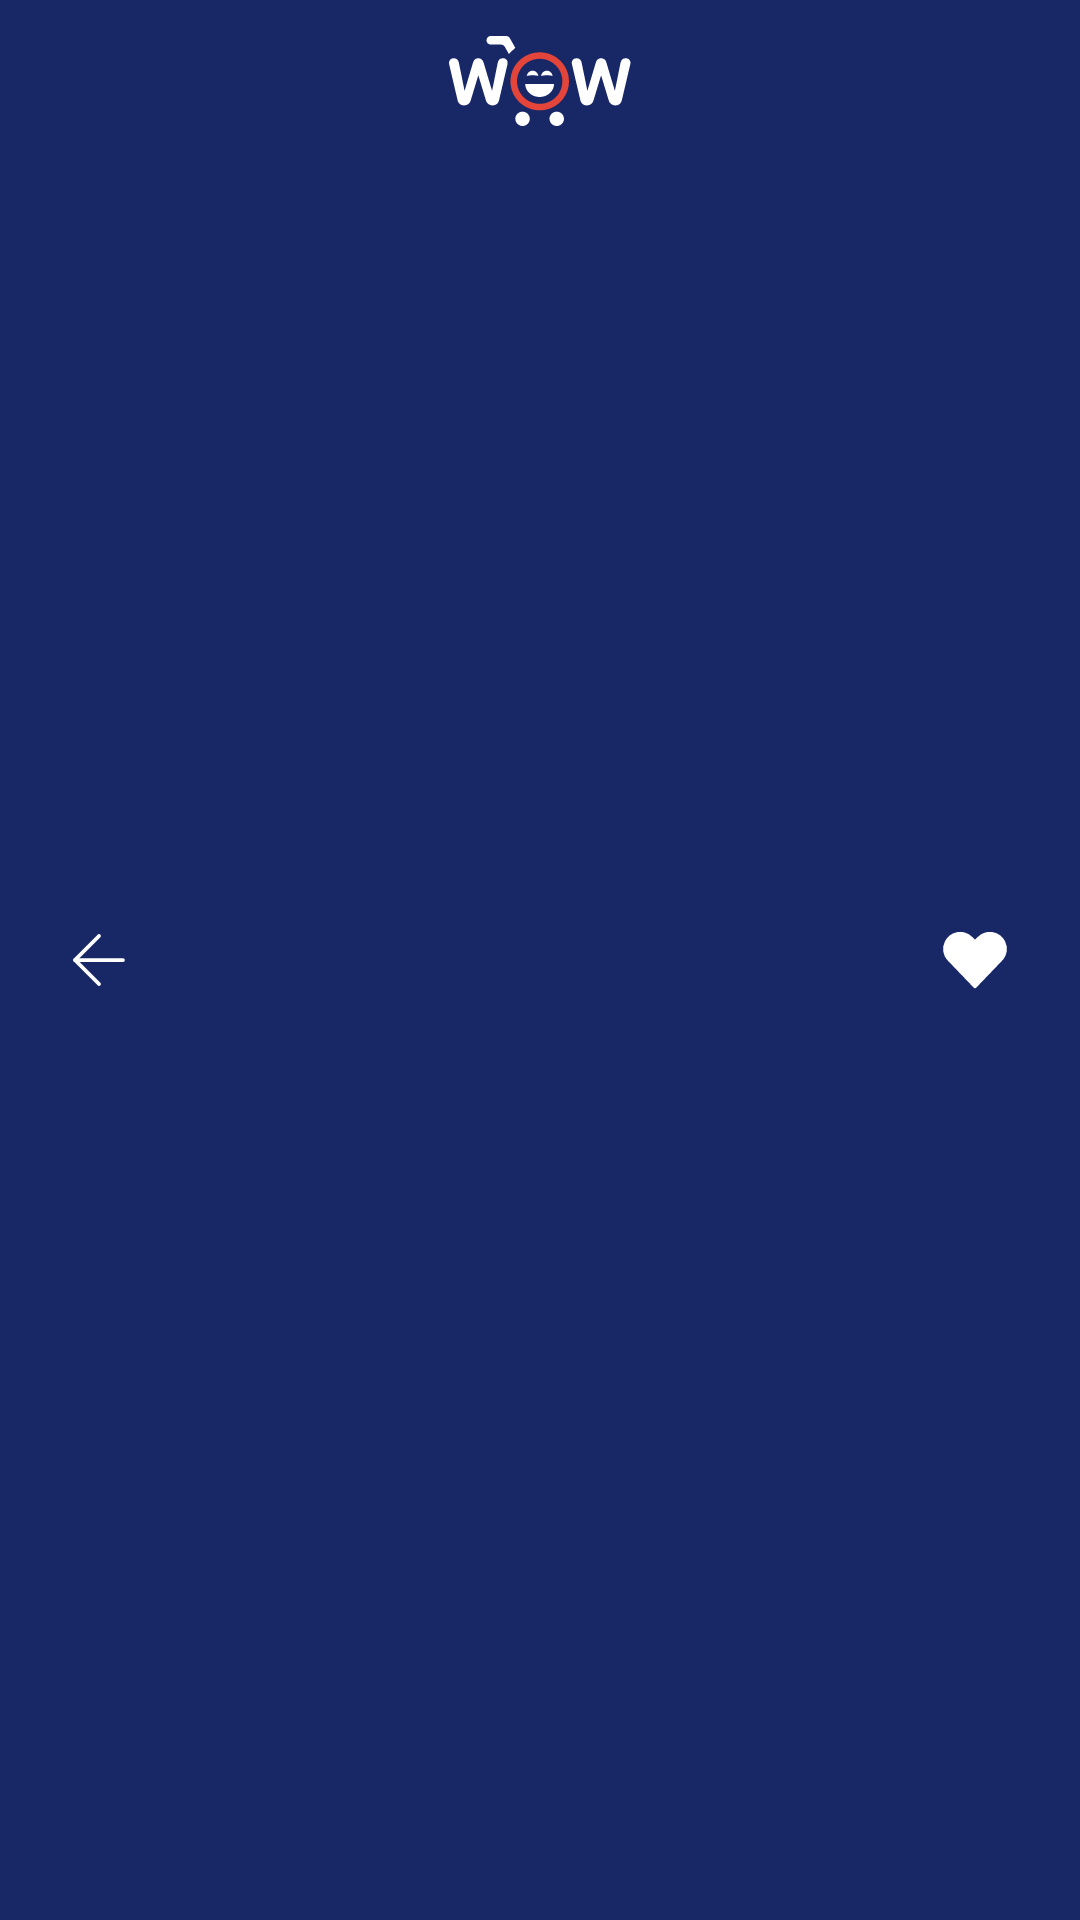

Icon click points for this 1080x1920 phone screenshot, format point (x, y):
Favorites: point (975, 960)
